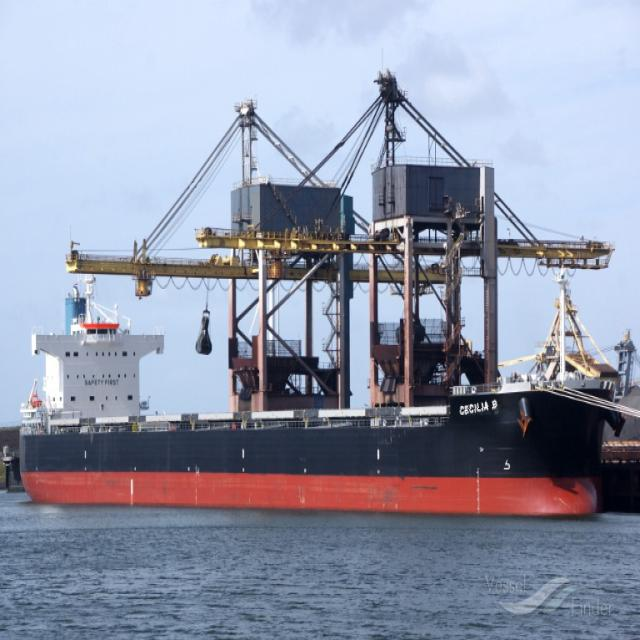OCR: (456, 397, 503, 422)
